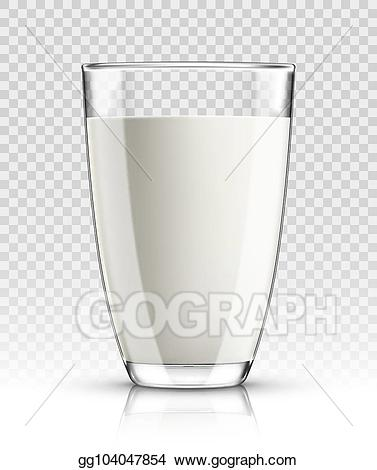glass of milk: (97, 79, 280, 258)
